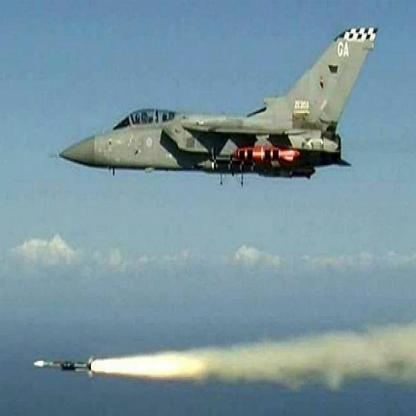MIL_TBM: (31, 354, 100, 378)
